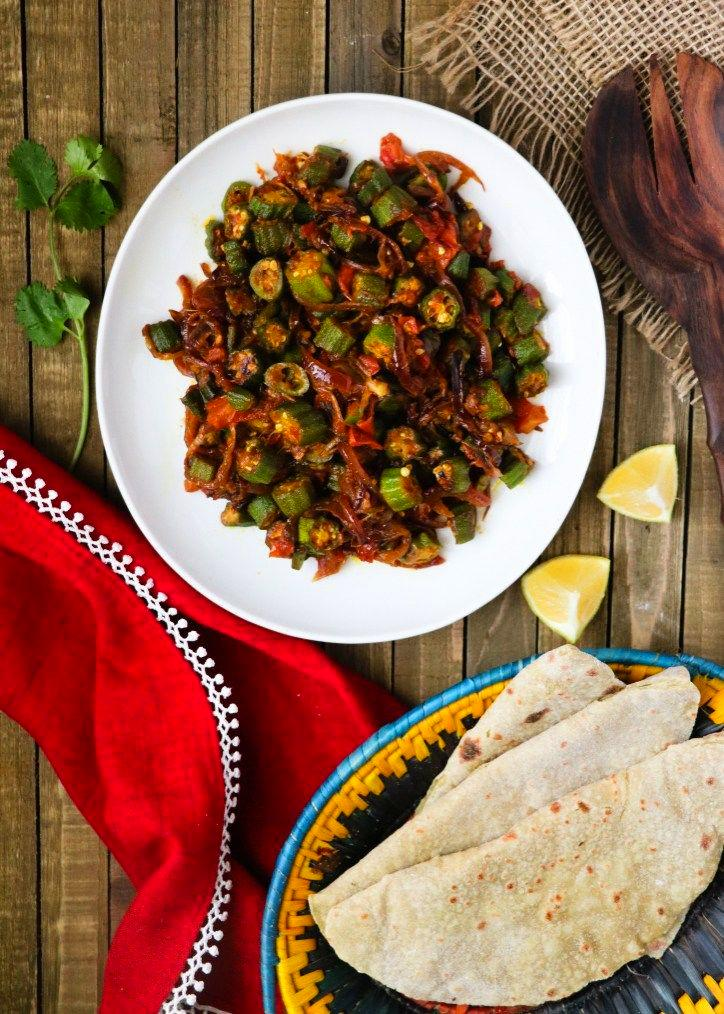bhindi: (216, 166, 490, 566)
